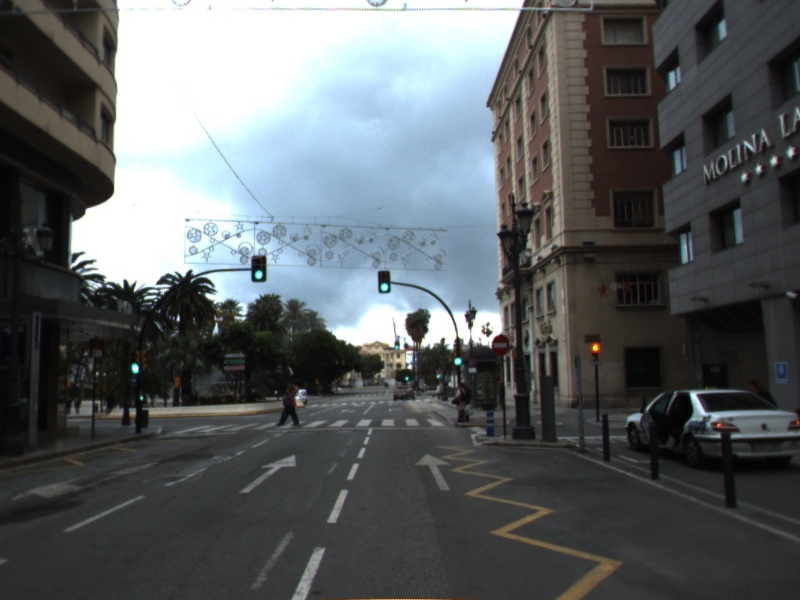STRAIGHT: (237, 453, 299, 495), (412, 451, 454, 493)
STRAIGHT_LEFT: (9, 460, 160, 502)
